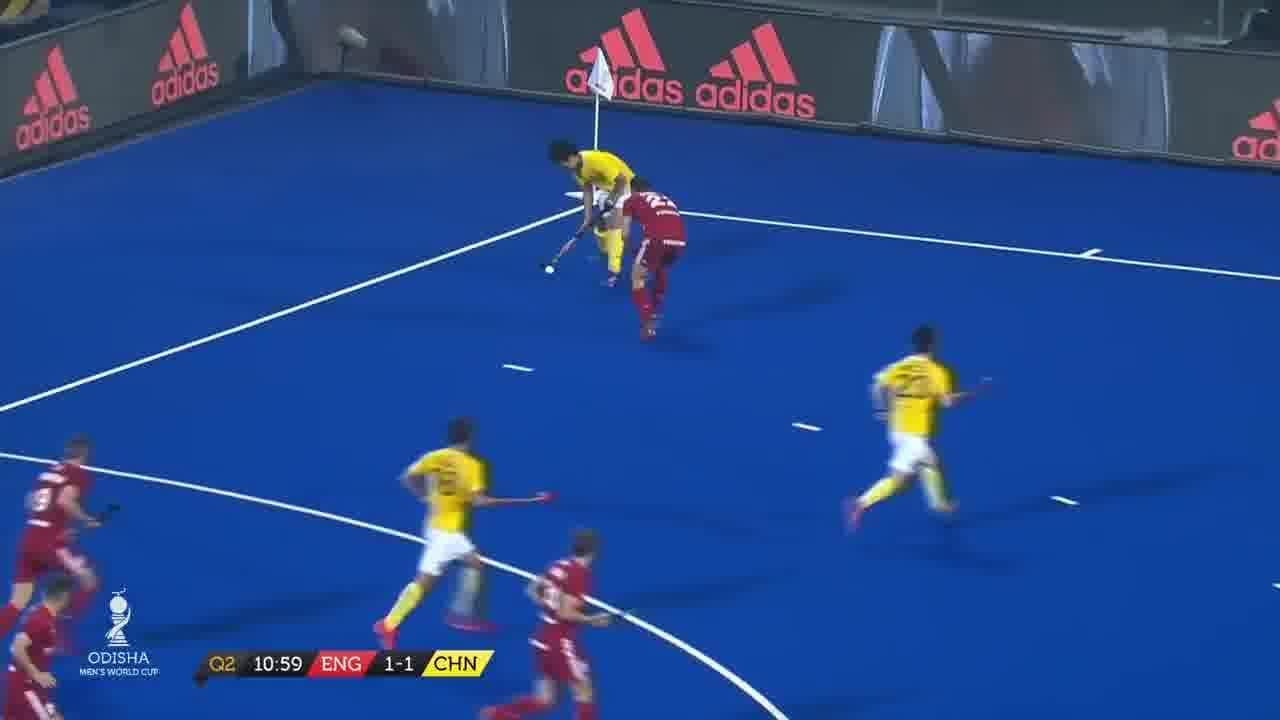ball: (540, 256, 568, 286)
